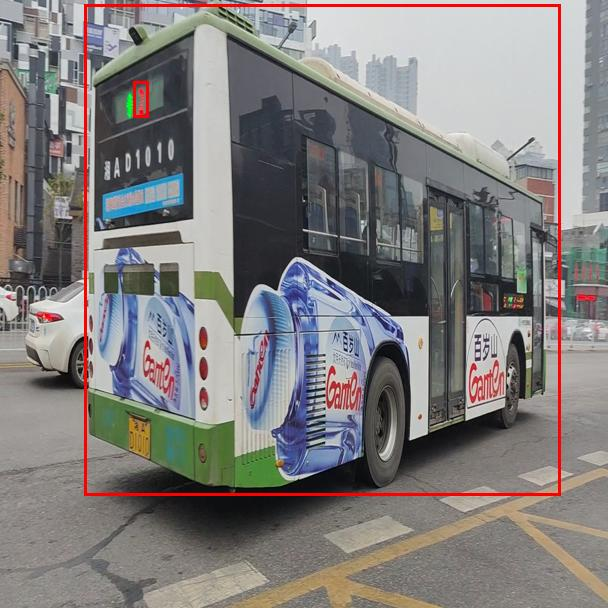bus: (84, 4, 560, 495)
screen: (133, 81, 148, 117)
